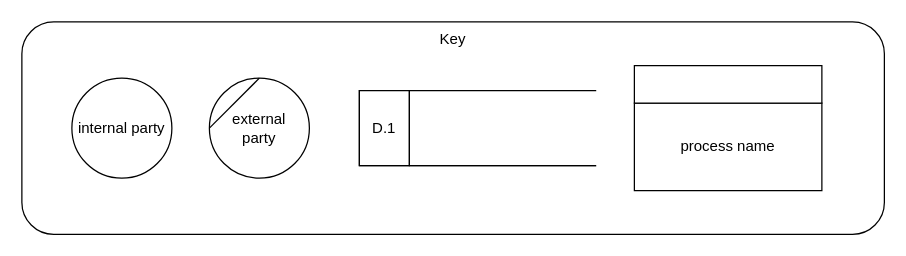
Image size: 906x256. Some labels were removed from this diagram. The centre of each missing label's shape, as x and y in pixels:
data store name: (508,127)
P.1: (727,83)
